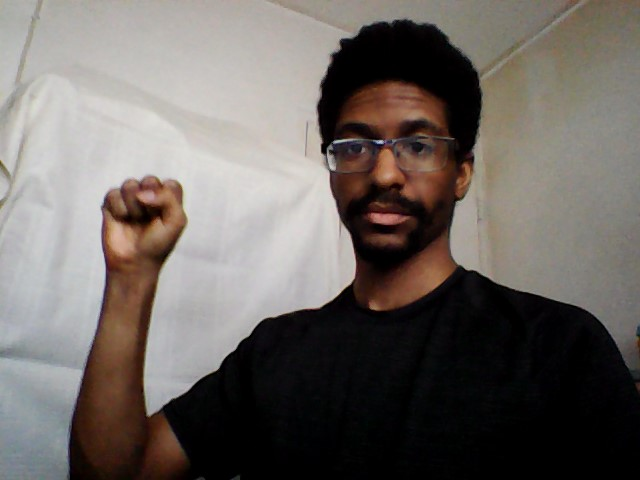s: (95, 170, 191, 277)
